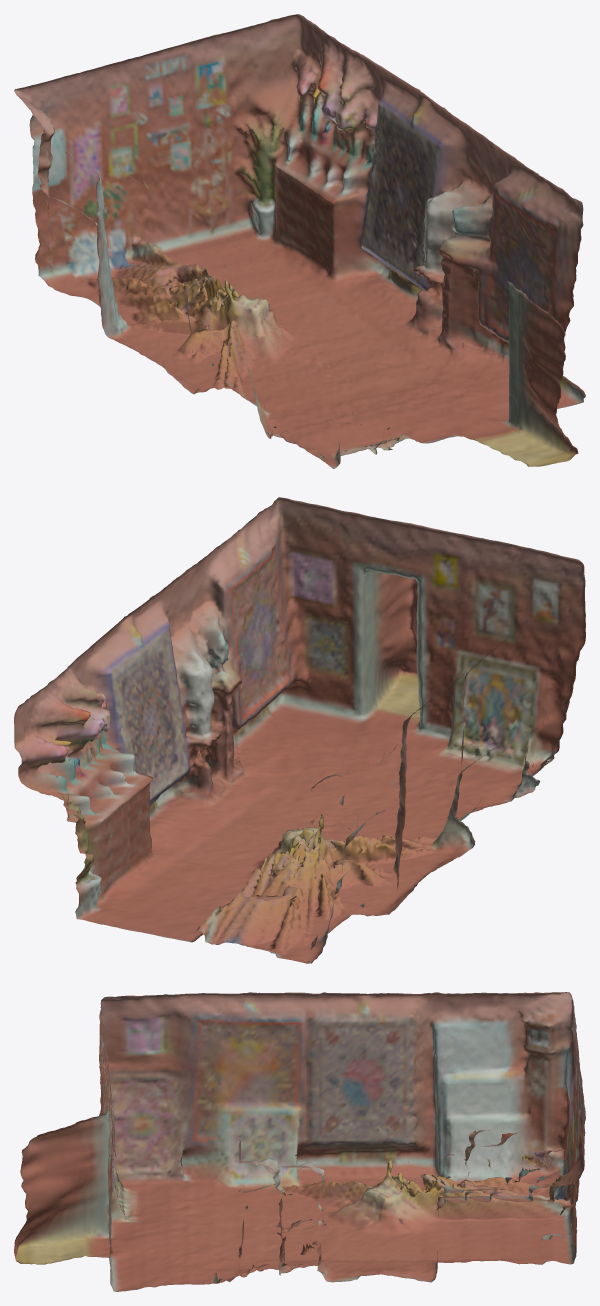
The model's file is red-studio.glb.
The picture shows the model from 3 angles, top to bottom: view 1: azimuth 30°, elevation 25°; view 2: azimuth 150°, elevation 25°; view 3: azimuth 270°, elevation 25°; orthographic projection. The views are drawn at different scales.
Visible parts, largest first — view 1: world; view 2: world; view 3: world.
Boxes of the visible parts, x1,y1,x2,y2 form: world: (14, 14, 585, 468); world: (14, 497, 585, 963); world: (14, 992, 585, 1291).
Size of the model in its own units: 3.78 by 2.44 by 6.96.
